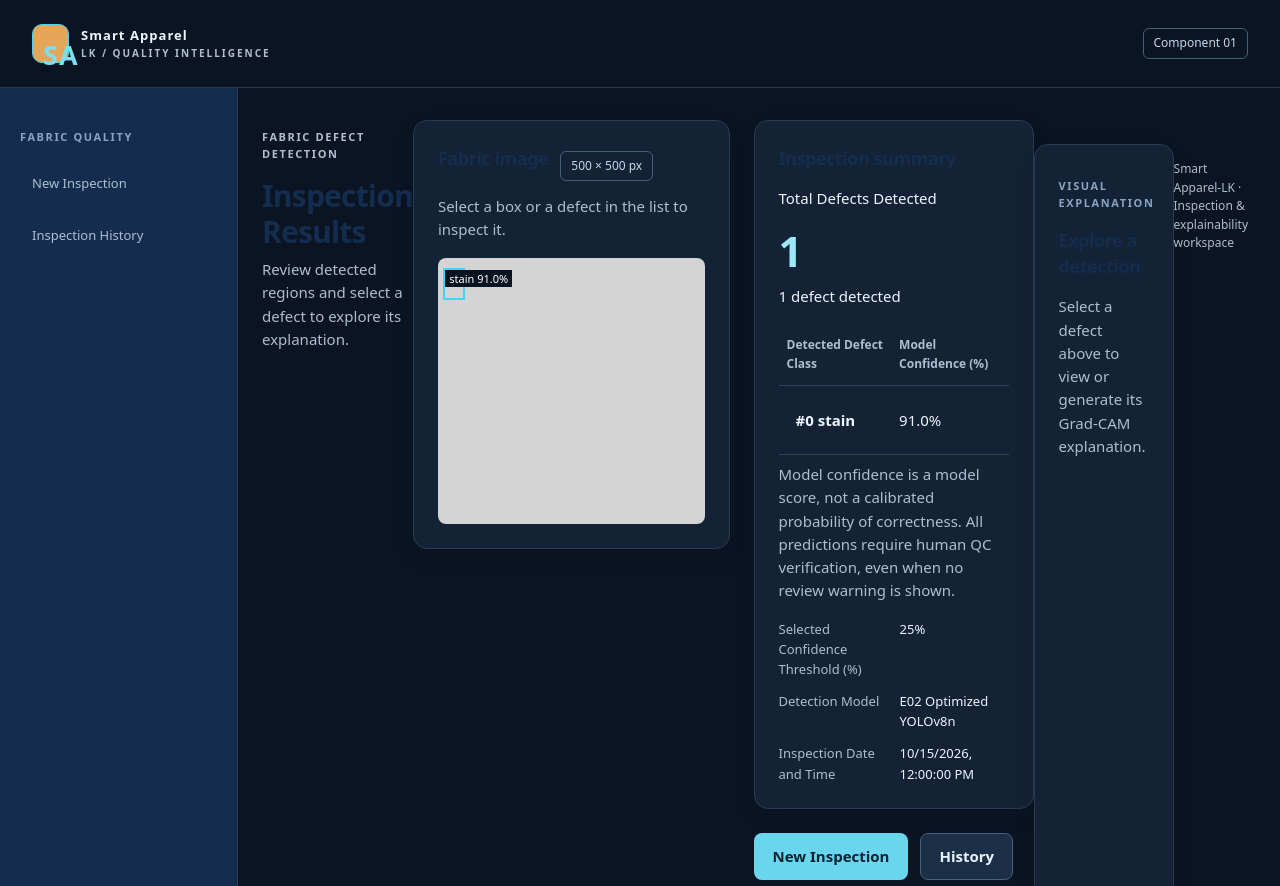
Scenario: ResultPage › selecting a detection reveals its detail panel and the XAI panel
The image size is (1280, 886).
Click the row "#0 stain 91.0%": {"x": 894, "y": 420} left=778, top=386, right=1008, bottom=455
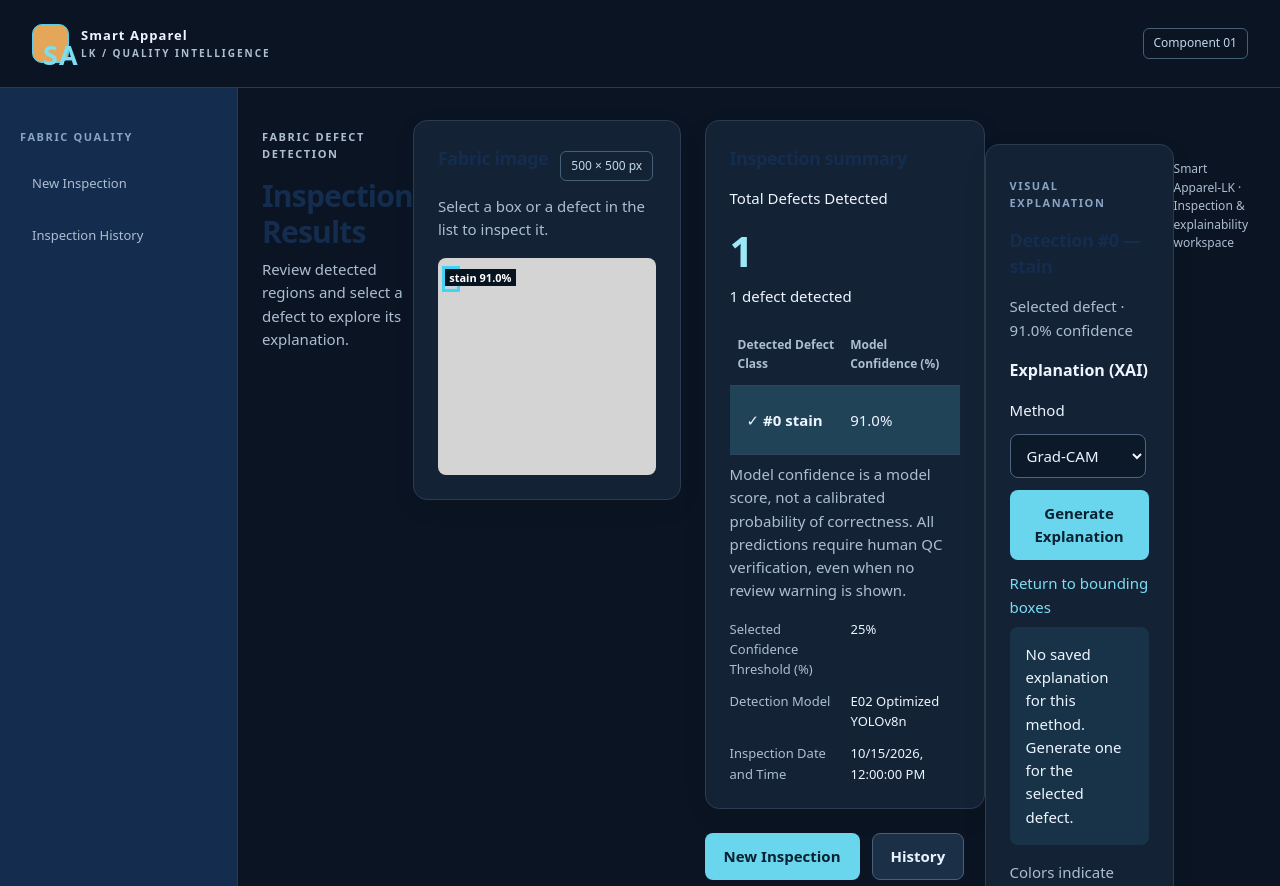
Result: the heading "Detection #0 — stain" is shown at left=1010, top=227, right=1149, bottom=279
Result: the button "Generate Explanation" is shown at left=1010, top=490, right=1149, bottom=560
